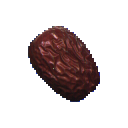gd: (16, 15, 128, 107)
